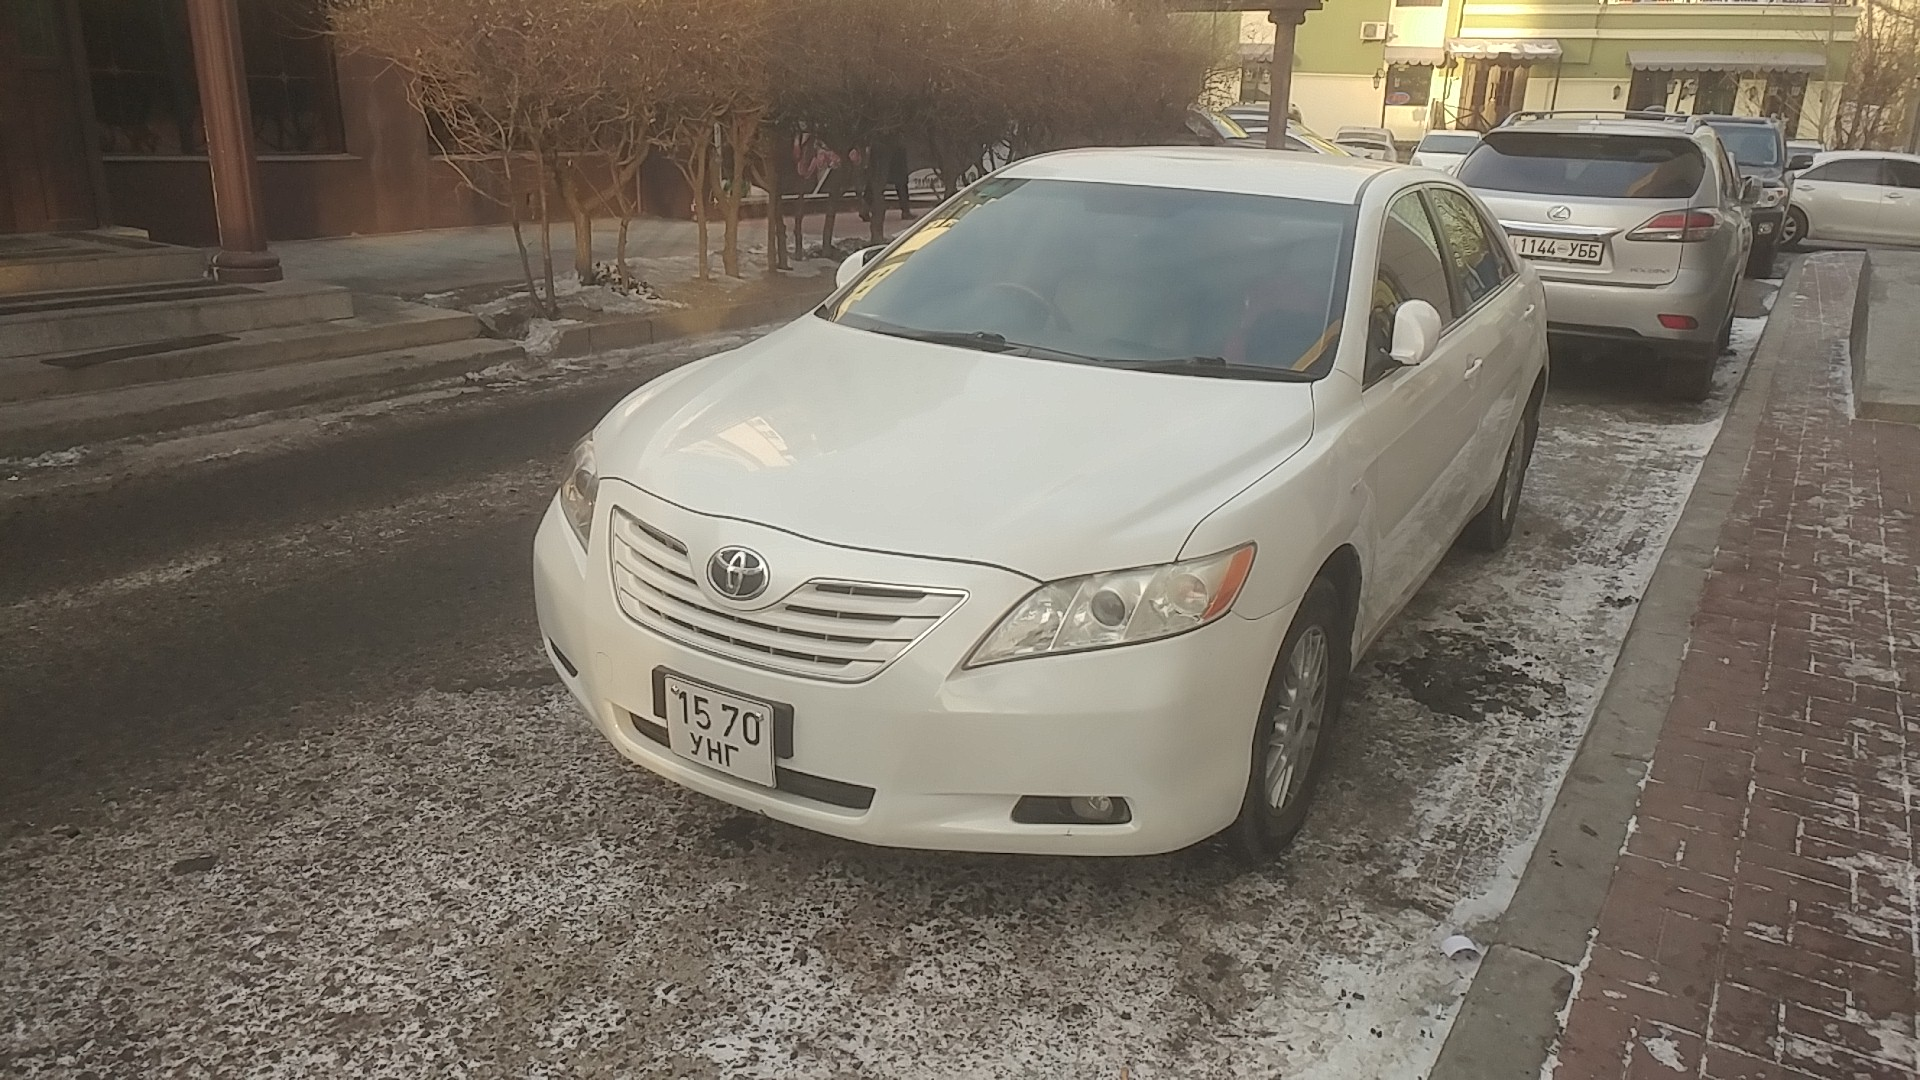0: (742, 711, 761, 746)
1: (678, 690, 690, 724)
5: (693, 695, 713, 731)
7: (720, 703, 740, 737)
g: (724, 742, 739, 768)
n: (706, 736, 723, 764)
plate: (662, 671, 780, 792)
u: (689, 731, 703, 756)
